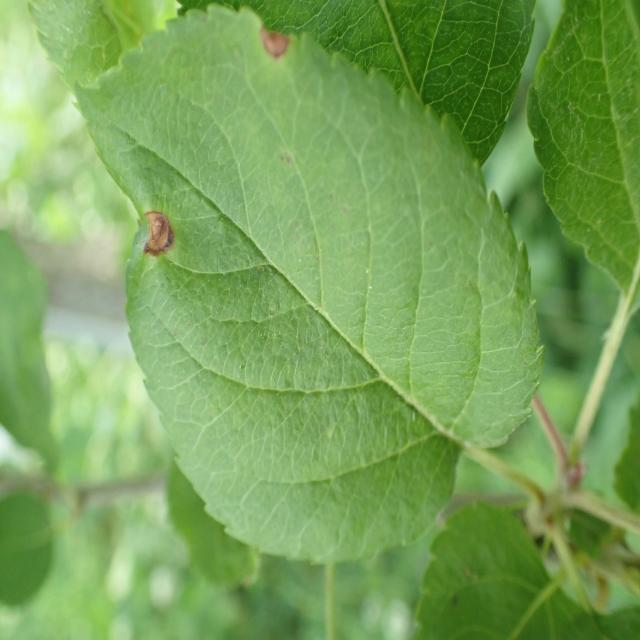frog-eye-leaf-spot: (76, 4, 546, 568)
